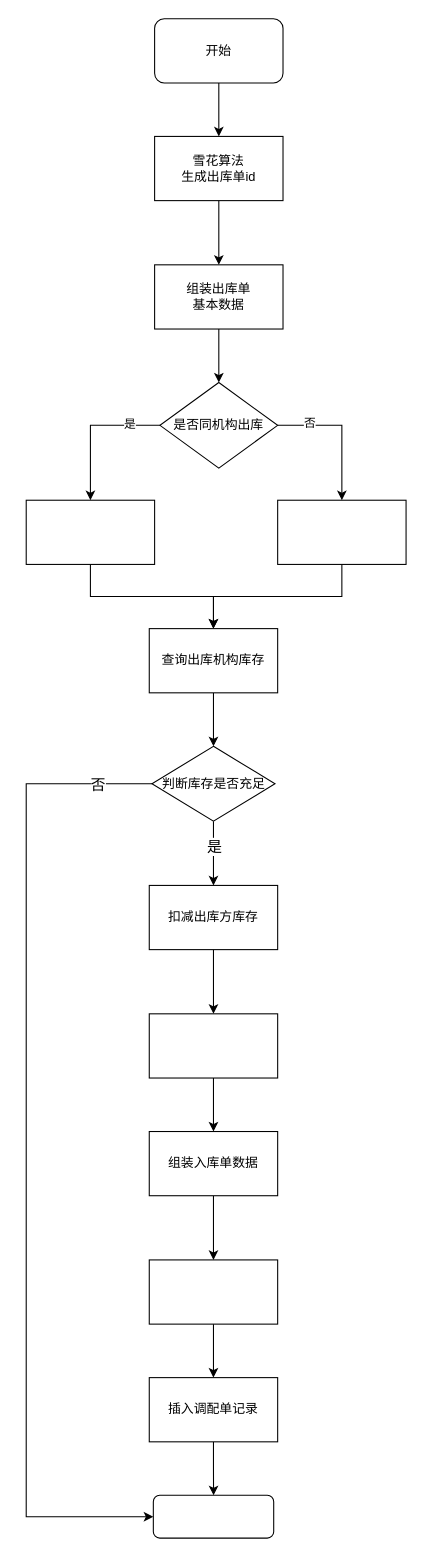
Some shapes in this 425 by 1557 pixel diagram are drawn without their labels. Here are the shapes that lost their labels. From the top down, the box of each, then its label:
(25, 499, 155, 564): 设置出库记录已确认
(277, 499, 406, 564): 设置出库记录未确认
(148, 1013, 278, 1078): 雪花算法生成入库单id
(148, 1259, 278, 1324): 批量插入出入库单
(152, 1494, 274, 1538): 结束
